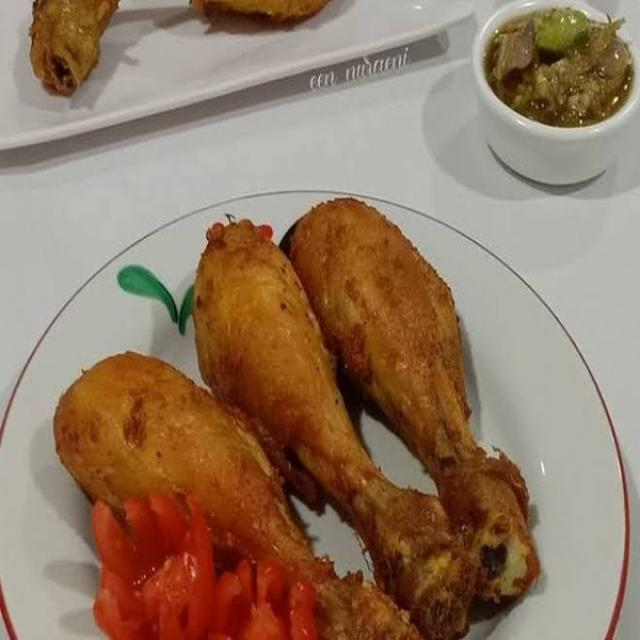CHICKEN FRY: (48, 198, 543, 639)
